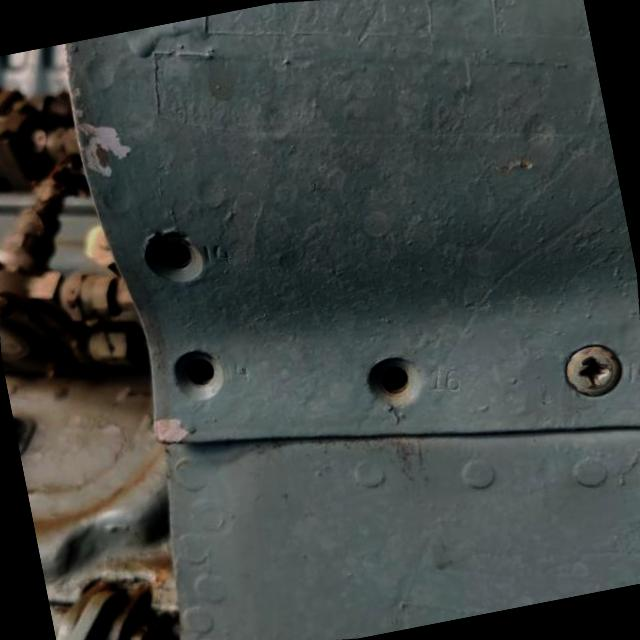Missing Fastener: (138, 221, 214, 295), (362, 340, 436, 416), (168, 340, 240, 411)
